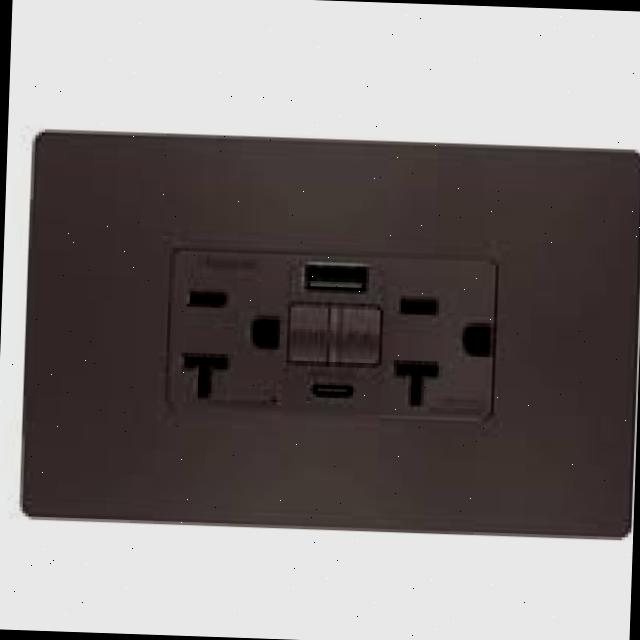type_b_tc: (162, 246, 504, 423), (377, 274, 496, 428), (170, 264, 293, 410)
